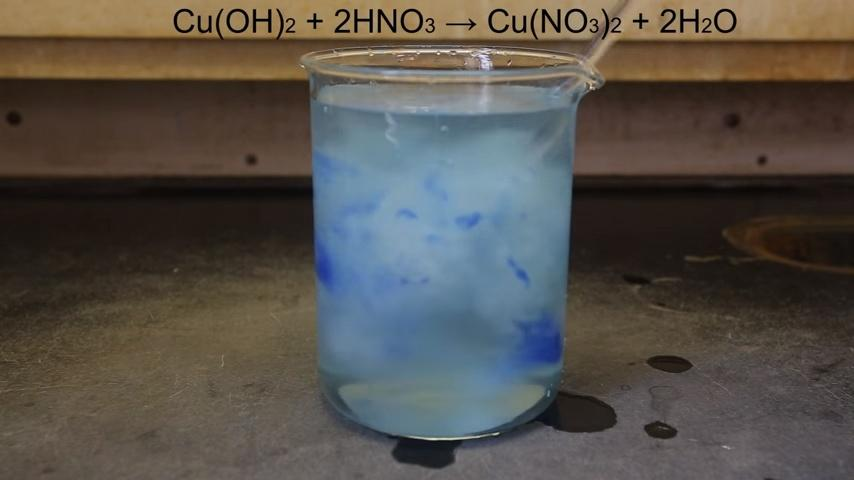Beaker: (286, 40, 613, 440)
